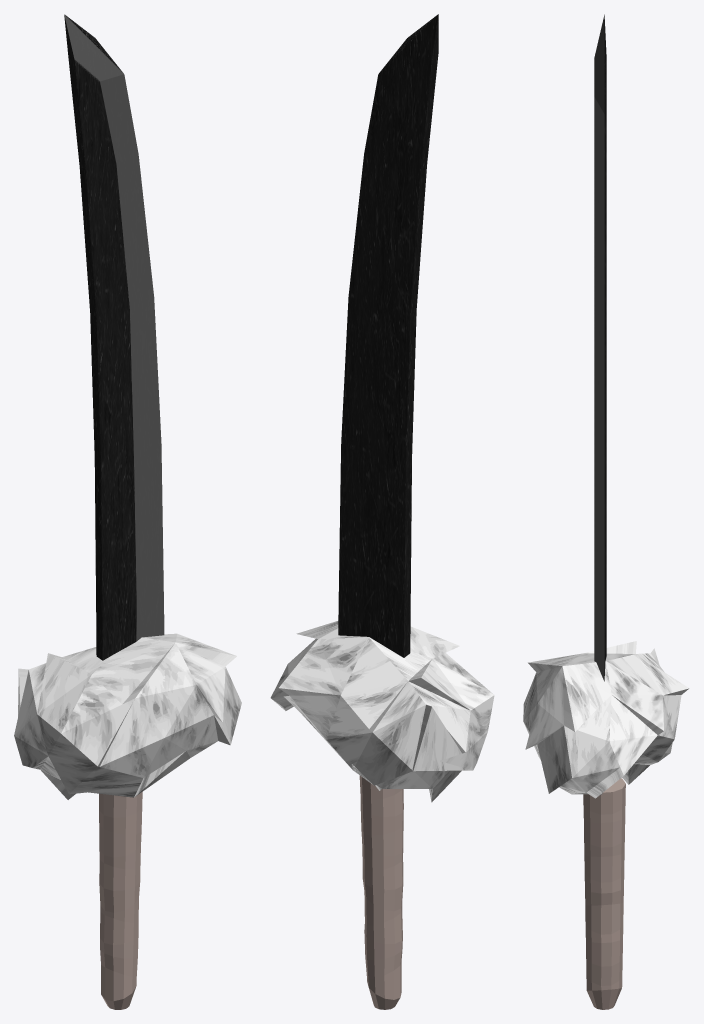
Rendered from SplitSoulBlade.fbx.
3 renders of one model, left to right at view 1: azimuth 30°, elevation 25°; view 2: azimuth 150°, elevation 25°; view 3: azimuth 270°, elevation 25°, orthographic. The views are drawn at different scales.
Visible parts, largest first — view 1: Plane, Icosphere, Cylinder; view 2: Plane, Icosphere, Cylinder; view 3: Icosphere, Cylinder, Plane.
Boxes of the visible parts, x1,y1,x2,y2 form: Plane: [64, 14, 164, 660]; Icosphere: [14, 633, 241, 799]; Cylinder: [99, 792, 142, 1009]; Plane: [338, 14, 438, 657]; Icosphere: [270, 621, 494, 802]; Cylinder: [359, 775, 403, 1009]; Icosphere: [523, 641, 689, 798]; Cylinder: [583, 778, 625, 1009]; Plane: [594, 14, 606, 681].
Size of the model in its own units: 37.83 by 182 by 28.37.
